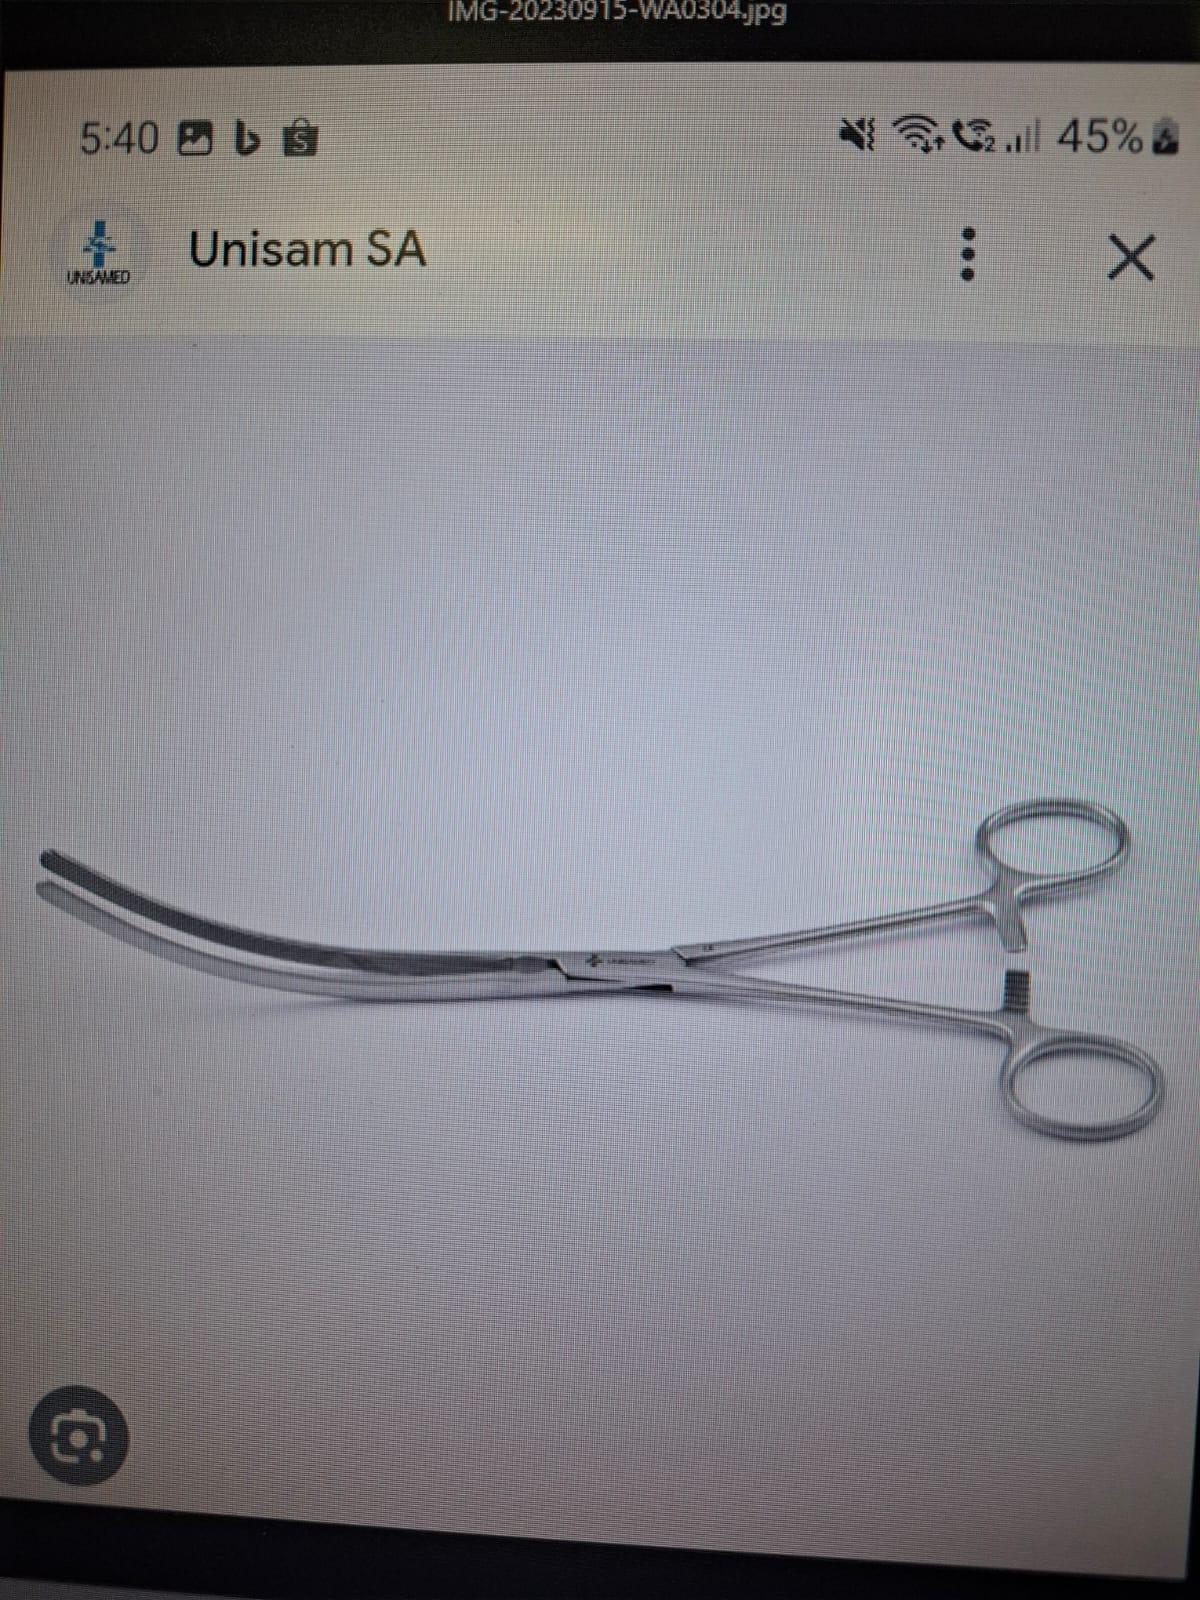Doyel Instestinal Forceps: (33, 745, 1172, 1160)
